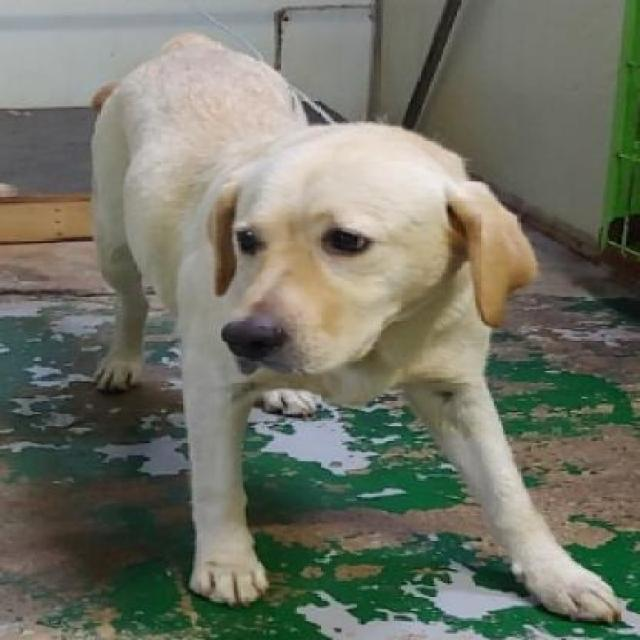Dog: (86, 29, 626, 629)
